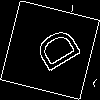D: (25, 25, 83, 79)
